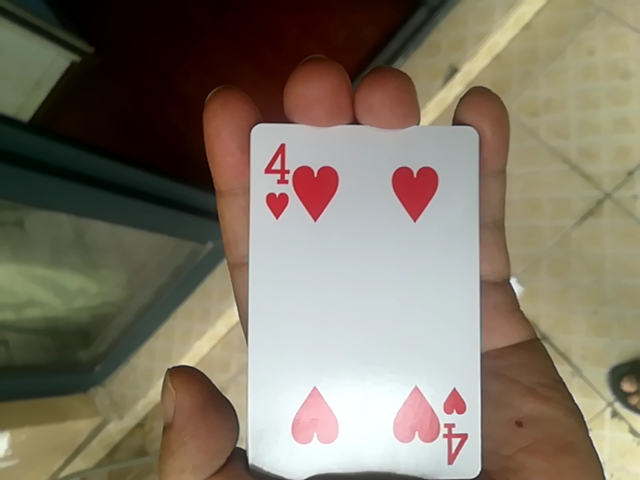hx 4: (247, 122, 472, 480)
